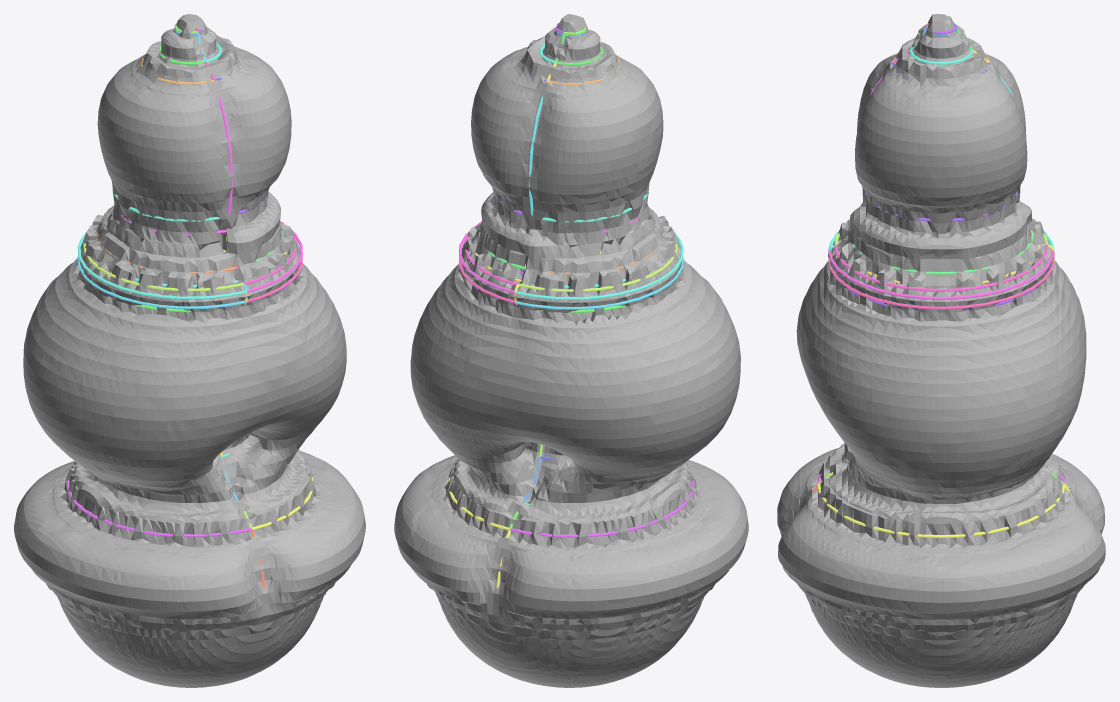
File: onshape_bishop.gltf
3 renders of one model, left to right at view 1: azimuth 30°, elevation 25°; view 2: azimuth 150°, elevation 25°; view 3: azimuth 270°, elevation 25°, orthographic.
Size of the model in its own units: 0.4867 by 0.9908 by 0.4497.
